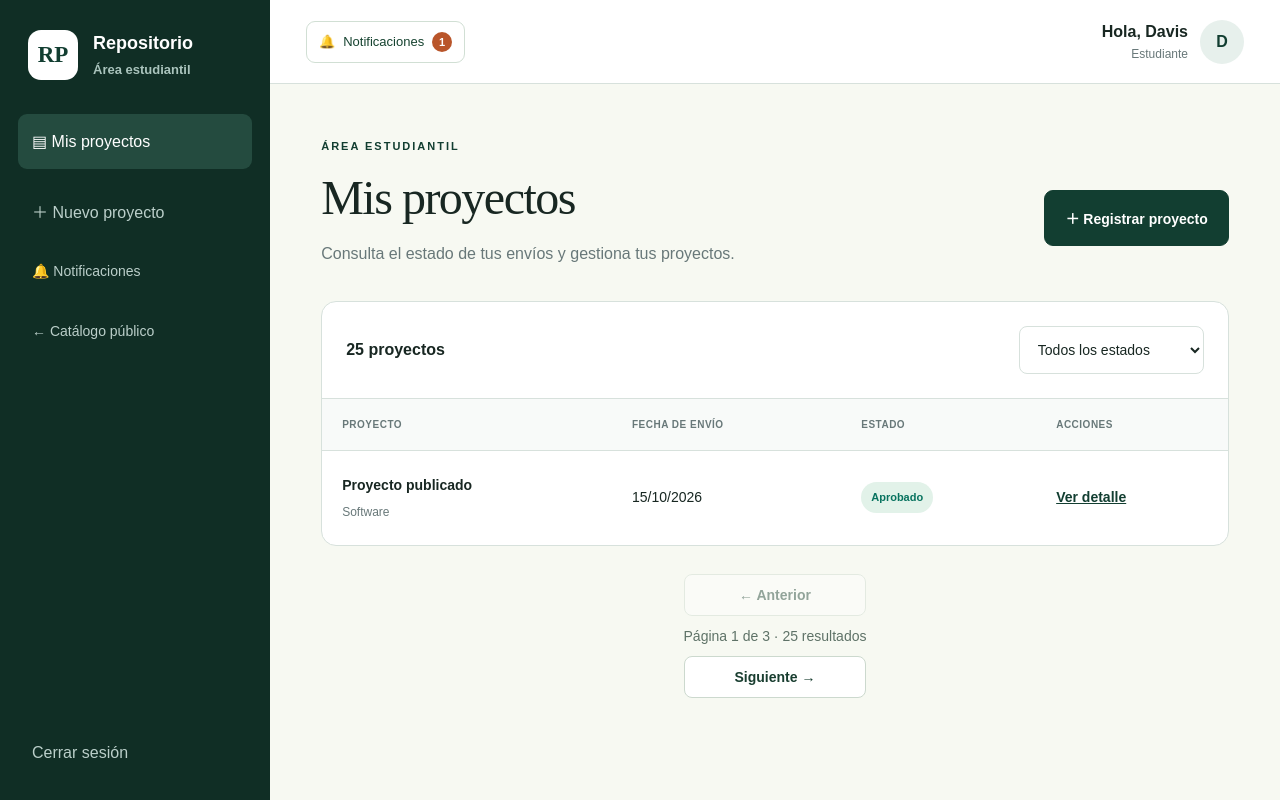
Scenario: Mejoras del repositorio › muestra notificaciones y permite marcarlas como leídas
Later steps or results of the test are not shown.
Click the heading named "Notificaciones: 1 sin leer": (386, 42) [306,20,465,62]
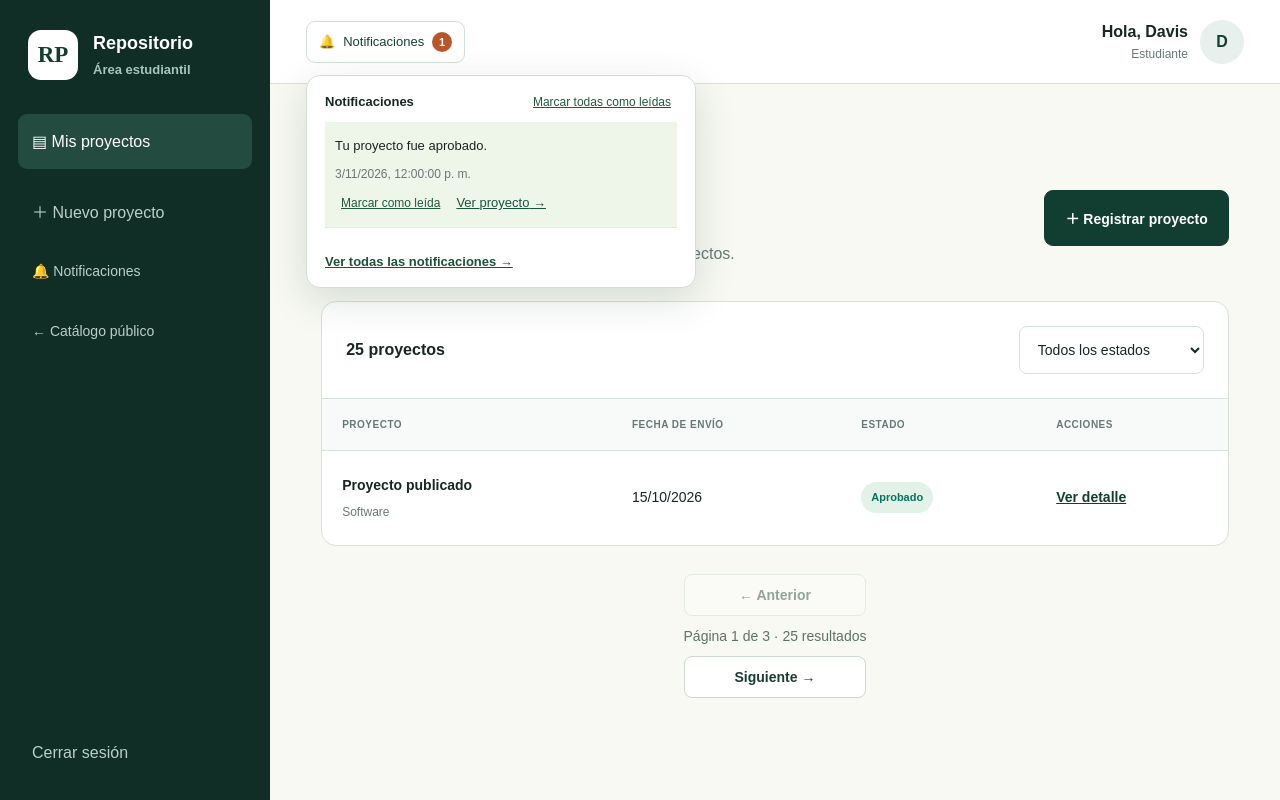
Check: the text "Tu proyecto fue aprobado." is shown, box [335,138,487,152]
